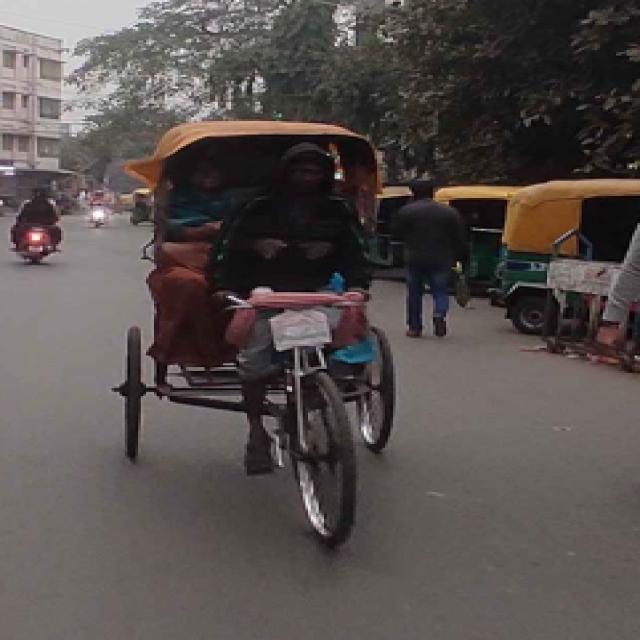rickshaw: (120, 119, 403, 559)
